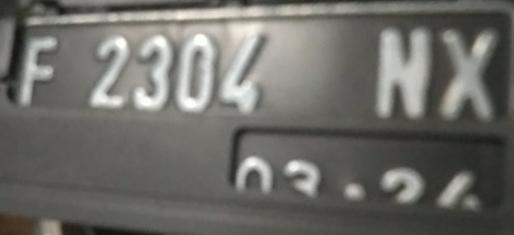0: (169, 33, 222, 117)
2: (83, 33, 138, 111)
3: (128, 33, 179, 114)
4: (212, 32, 273, 120)
F: (15, 33, 62, 106)
N: (375, 25, 433, 120)
X: (437, 22, 505, 120)
